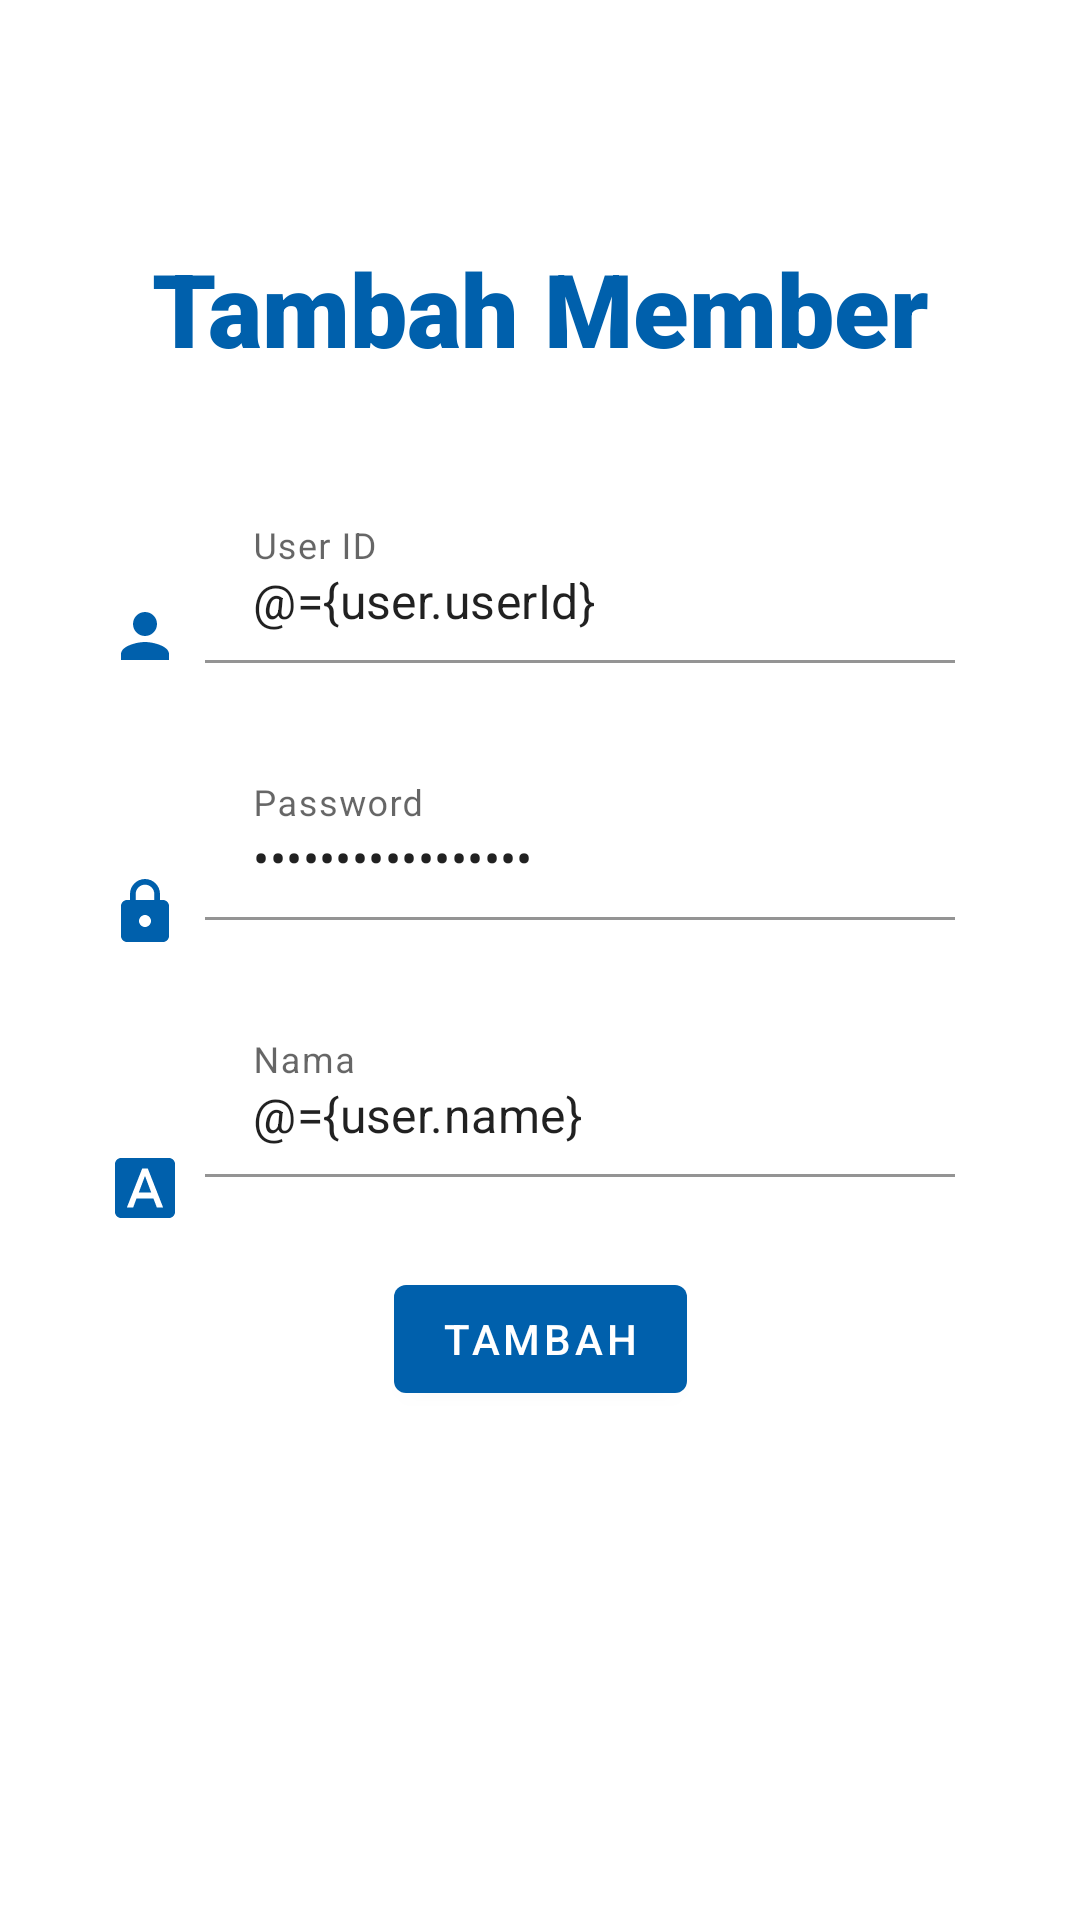

Screen size 1080x1920. Icon name, then its center in pixels as point (x, y):
font download: point (145, 1188)
lock: point (145, 910)
person: point (145, 636)
